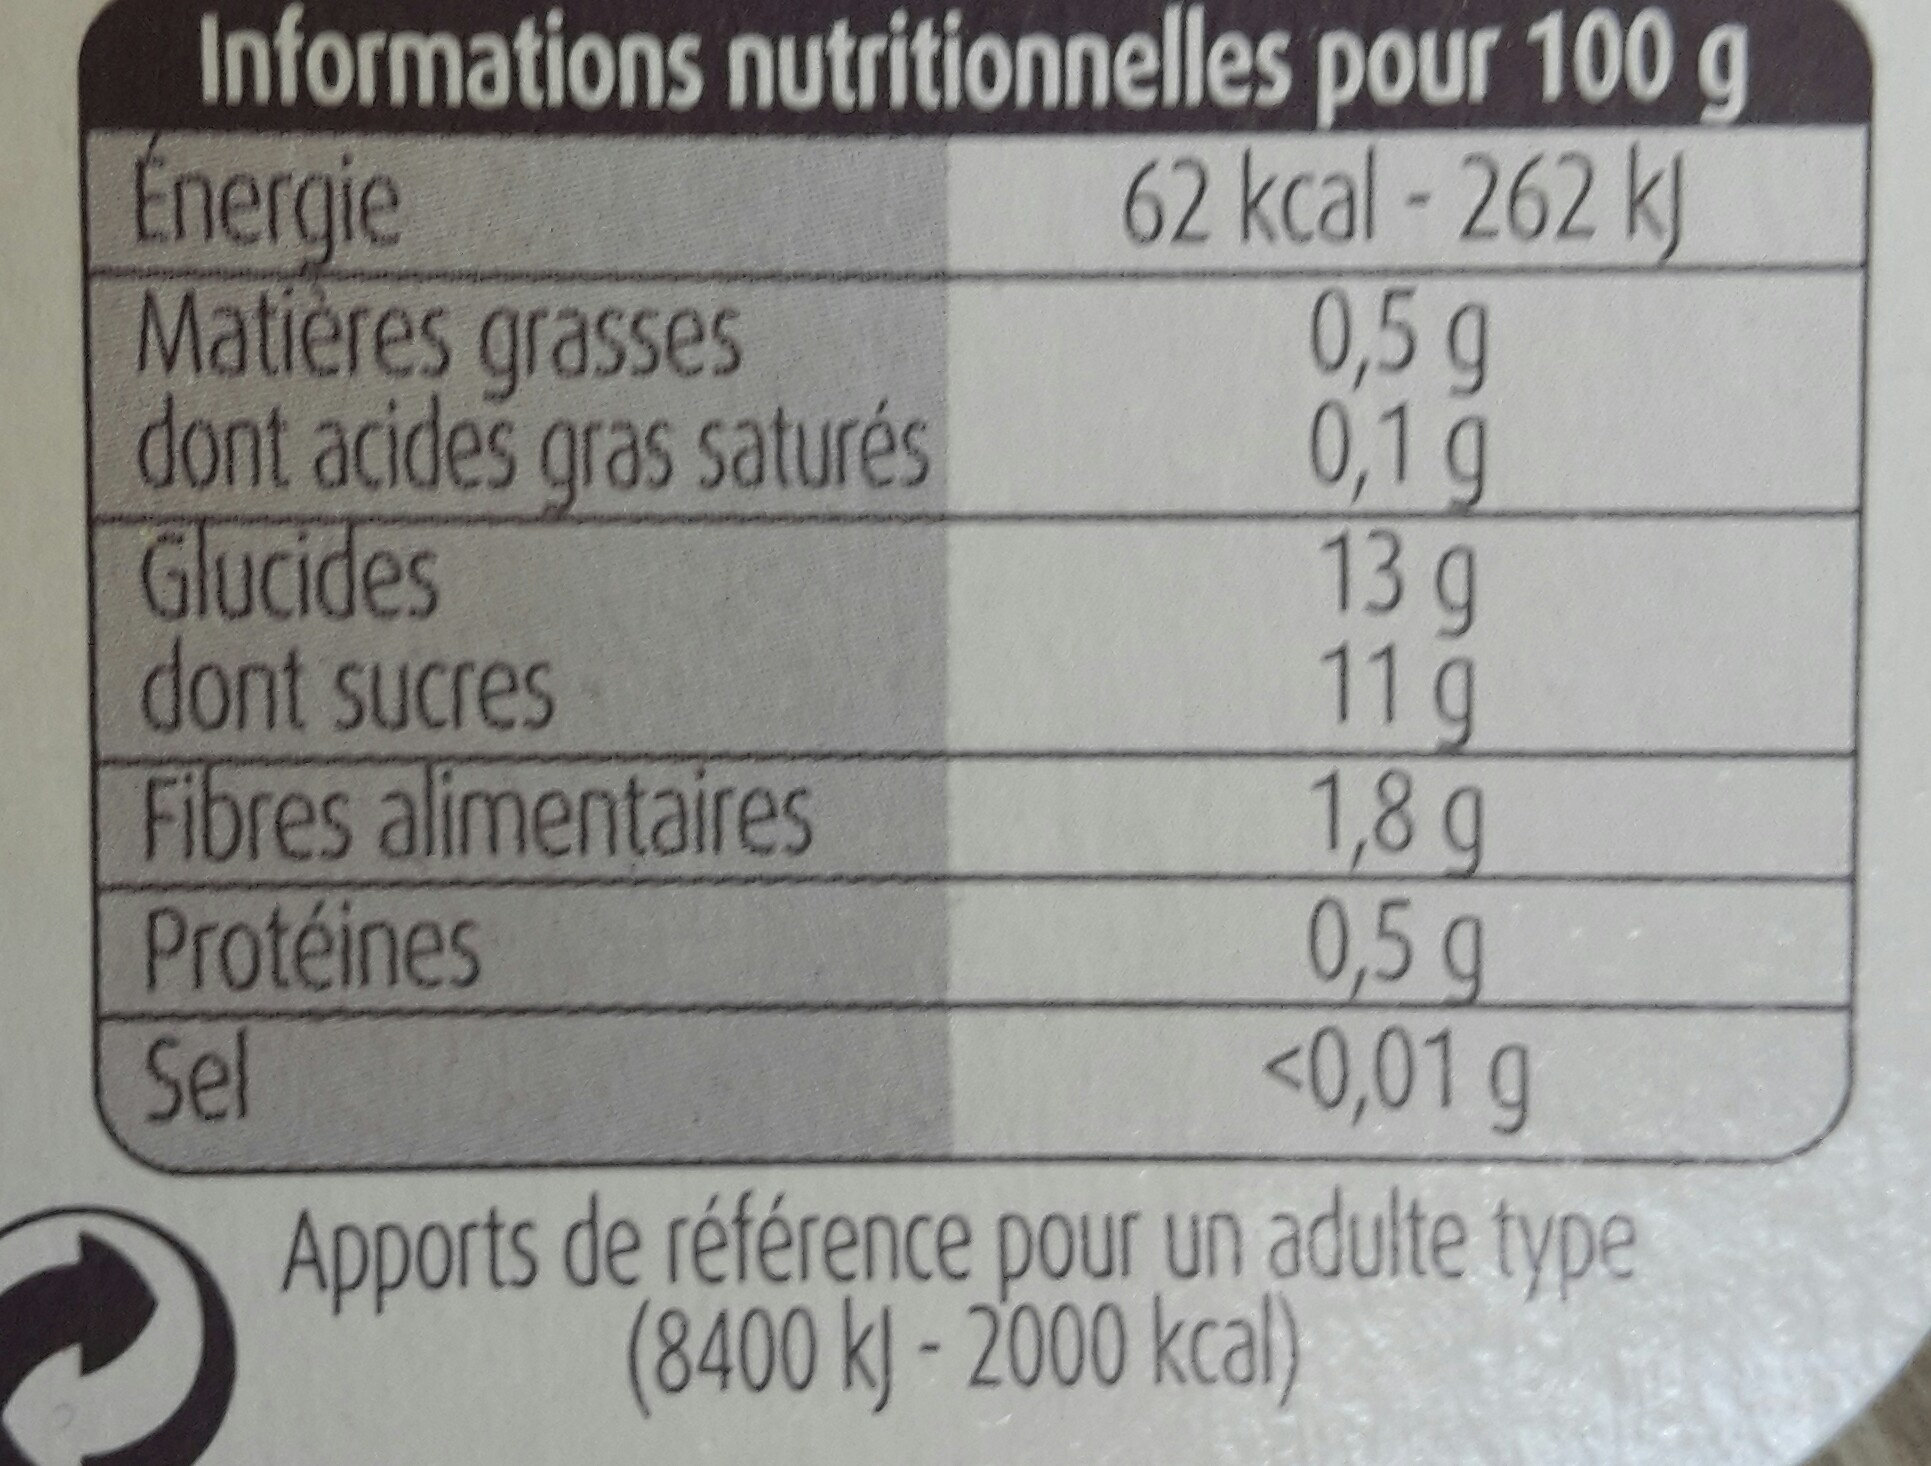column: (79, 129, 925, 1147), (1118, 139, 1706, 1161)
table: (69, 2, 1872, 1180)
